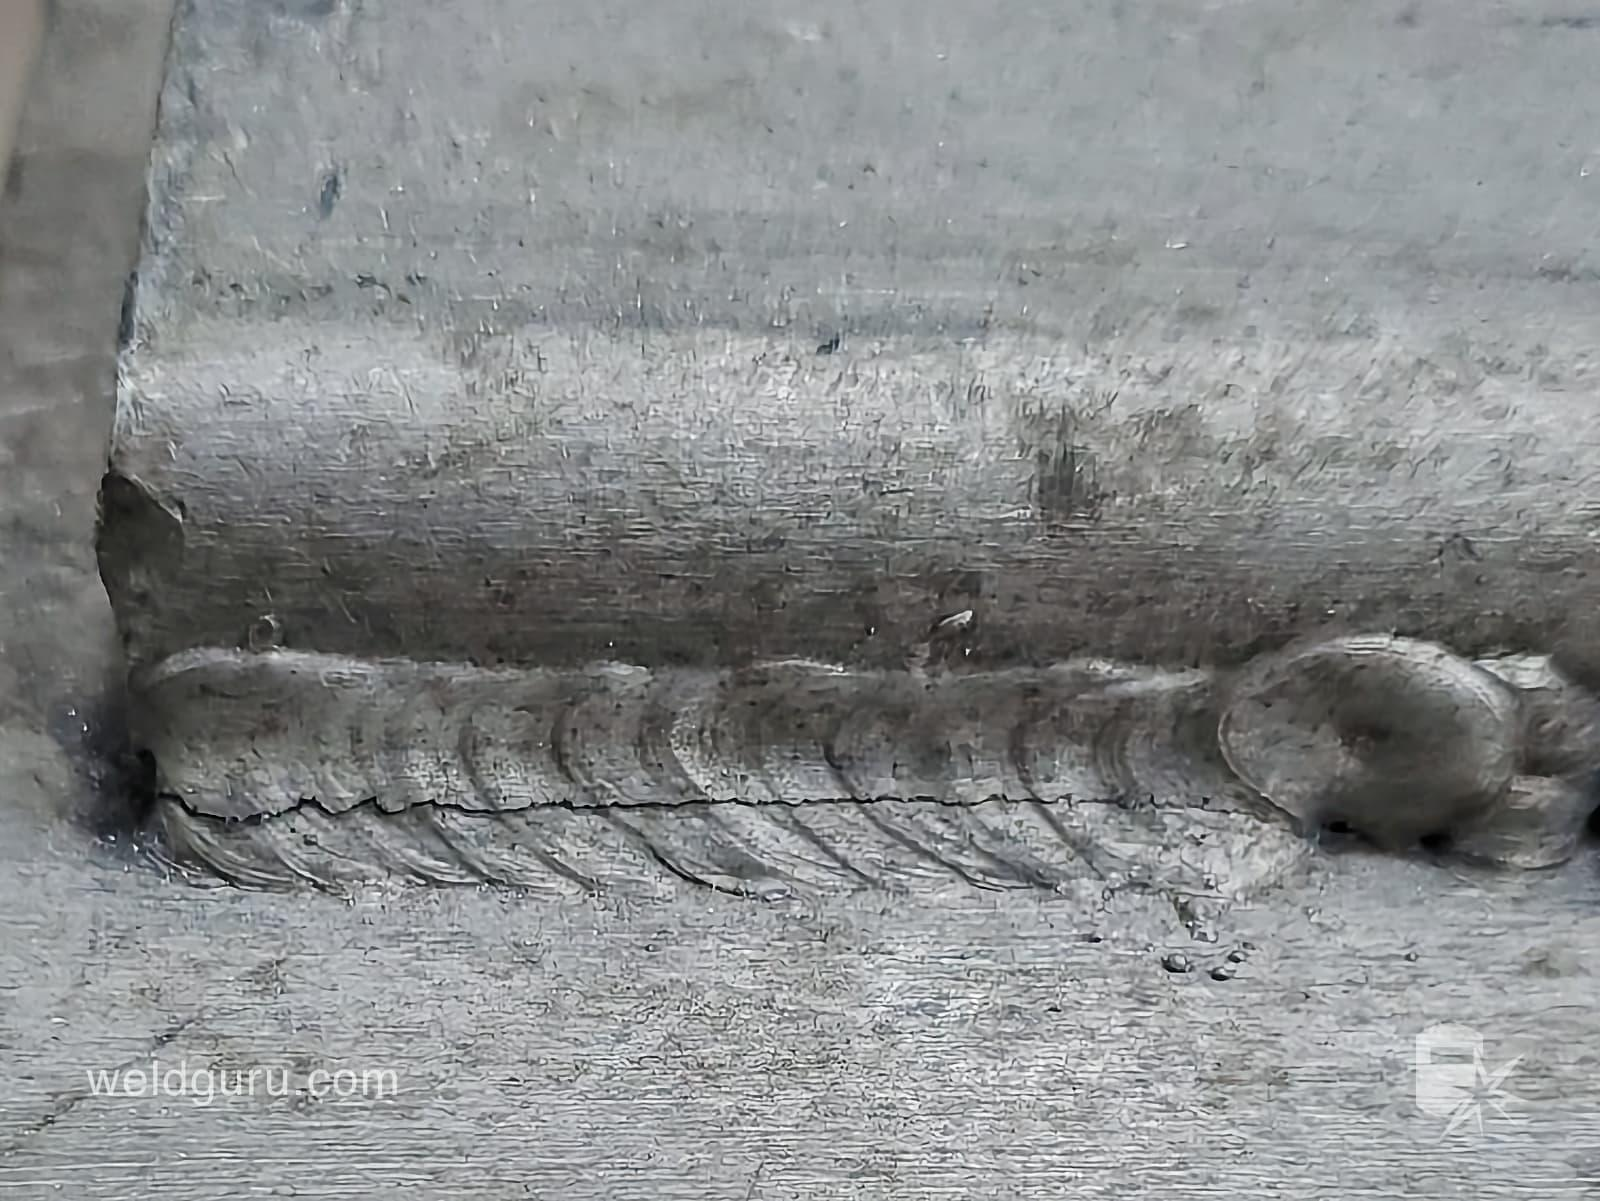crack: (116, 743, 1266, 850)
